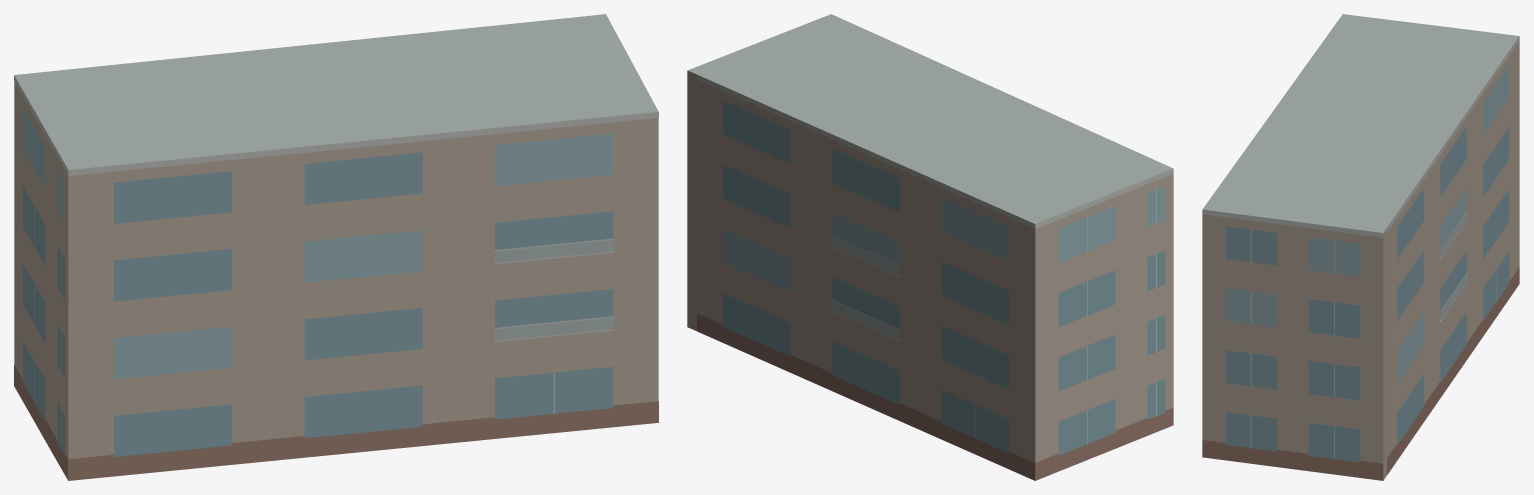
File: survey-upis-32665943.glb
3 renders of one model, left to right at view 1: azimuth 30°, elevation 25°; view 2: azimuth 150°, elevation 25°; view 3: azimuth 270°, elevation 25°, orthographic. The views are drawn at different scales.
Parts seen in each view (by area): view 1: survey-upis-32665943.tmp; view 2: survey-upis-32665943.tmp; view 3: survey-upis-32665943.tmp.
Boxes of the visible parts, x1=… form: survey-upis-32665943.tmp: x1=14, y1=14, x2=658, y2=480; survey-upis-32665943.tmp: x1=687, y1=14, x2=1173, y2=480; survey-upis-32665943.tmp: x1=1202, y1=14, x2=1519, y2=480.
Size of the model in its own units: 23.51 by 12.4 by 14.39.
